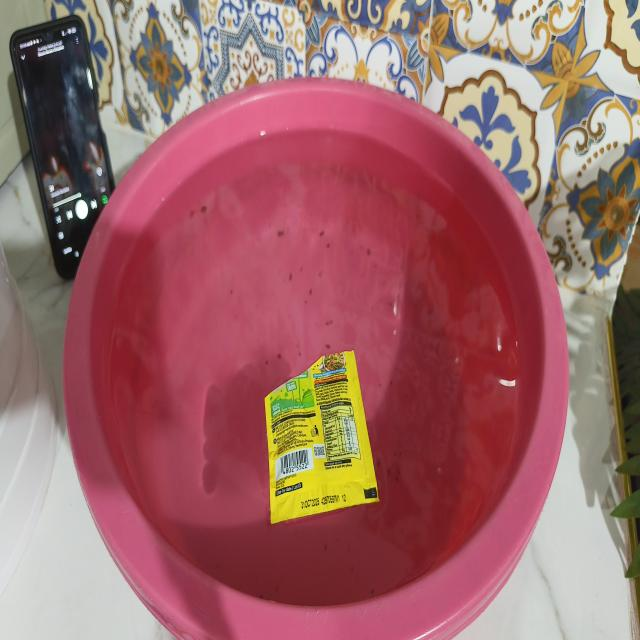Plastic Wrapper: (239, 325, 397, 542)
